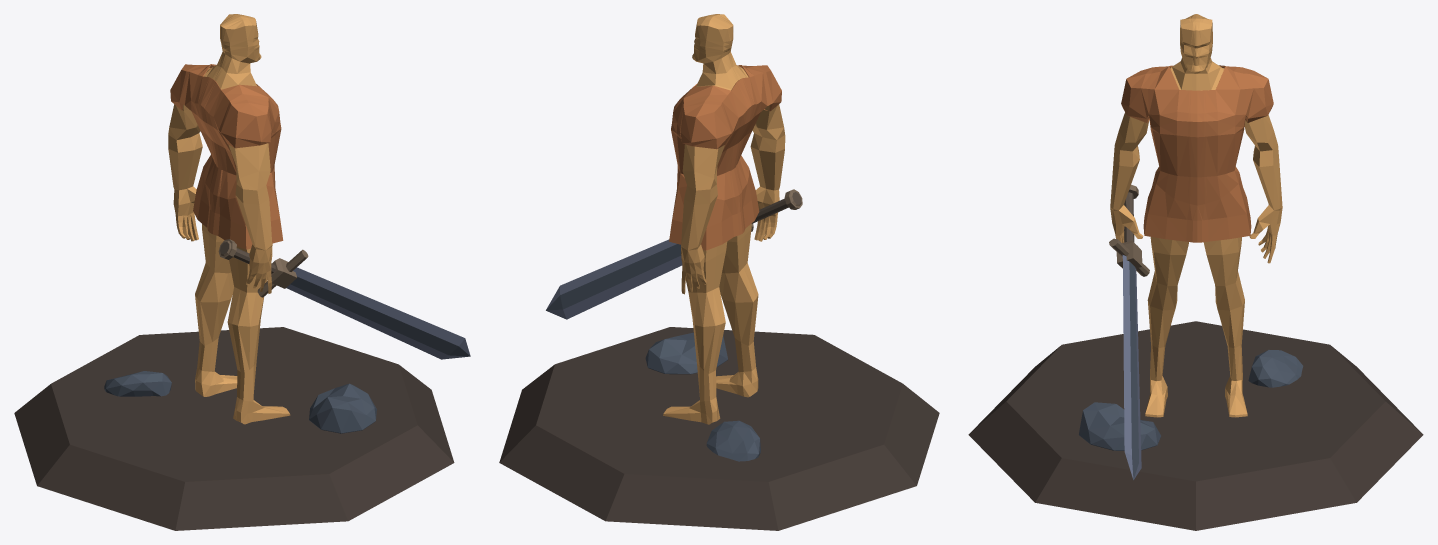
The model's file is barbarian3.glb.
The picture shows the model from 3 angles, left to right: view 1: azimuth 30°, elevation 25°; view 2: azimuth 150°, elevation 25°; view 3: azimuth 270°, elevation 25°; orthographic projection.
Parts seen in each view (by area): view 1: Cube, Sword00.002, Stone00.001, Stone00.002; view 2: Cube, Sword00.002, Stone00.001, Stone00.002; view 3: Cube, Sword00.002, Stone00.001, Stone00.002.
Part boxes in pixels (bbox=[...]): Cube: bbox=[14, 14, 454, 530]; Sword00.002: bbox=[218, 239, 470, 359]; Stone00.001: bbox=[309, 383, 376, 433]; Stone00.002: bbox=[104, 371, 171, 396]; Cube: bbox=[499, 14, 939, 530]; Sword00.002: bbox=[546, 189, 802, 319]; Stone00.001: bbox=[645, 332, 727, 374]; Stone00.002: bbox=[706, 420, 760, 461]; Cube: bbox=[968, 14, 1423, 530]; Sword00.002: bbox=[1109, 184, 1149, 480]; Stone00.001: bbox=[1079, 402, 1160, 450]; Stone00.002: bbox=[1248, 350, 1303, 387].
Size of the model in its own units: 5.45 by 5.44 by 5.35.
Materials: 4 (4 with a texture image).
